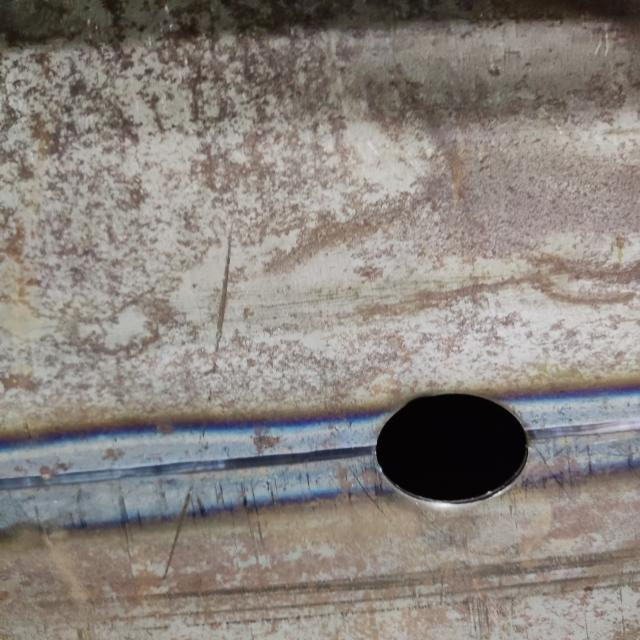seam: (0, 371, 640, 548)
